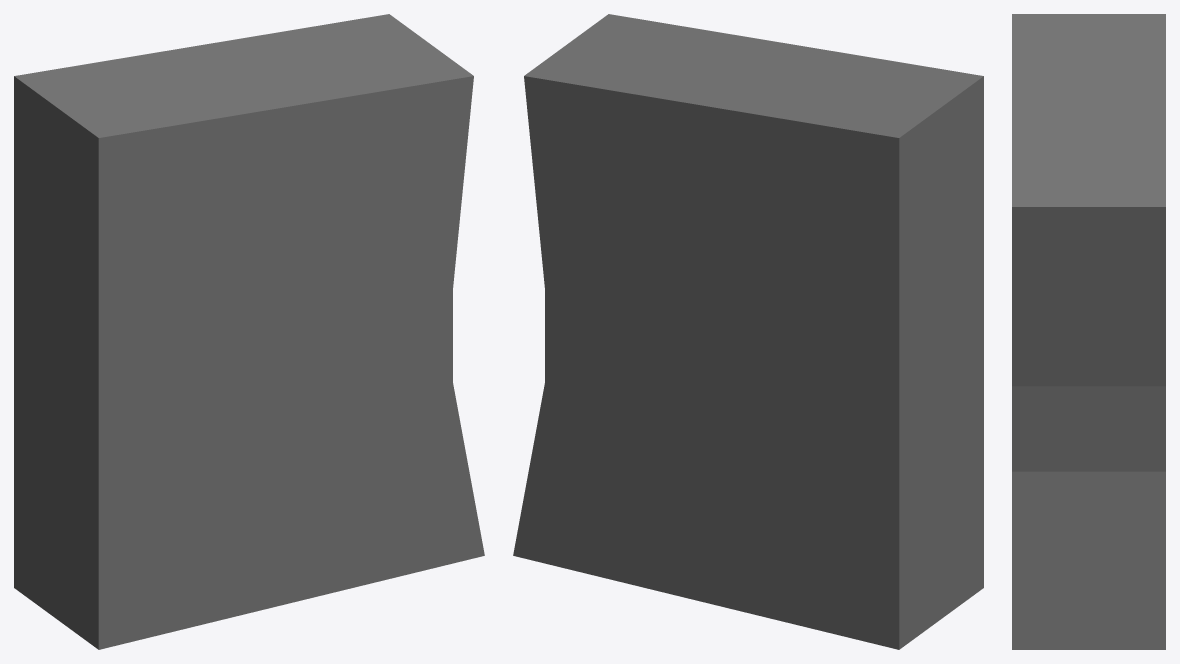
Rendered from LMG1_03_3.fbx.
3 renders of one model, left to right at view 1: azimuth 30°, elevation 25°; view 2: azimuth 150°, elevation 25°; view 3: azimuth 270°, elevation 25°, orthographic. The views are drawn at different scales.
Visible parts, largest first — view 1: LMG1_03_3; view 2: LMG1_03_3; view 3: LMG1_03_3.
Part boxes in pixels (x1=…): LMG1_03_3: x1=14, y1=14, x2=484, y2=649; LMG1_03_3: x1=513, y1=14, x2=983, y2=649; LMG1_03_3: x1=1012, y1=14, x2=1165, y2=649.
Size of the model in its own units: 0.0365 by 0.0463 by 0.0139.
